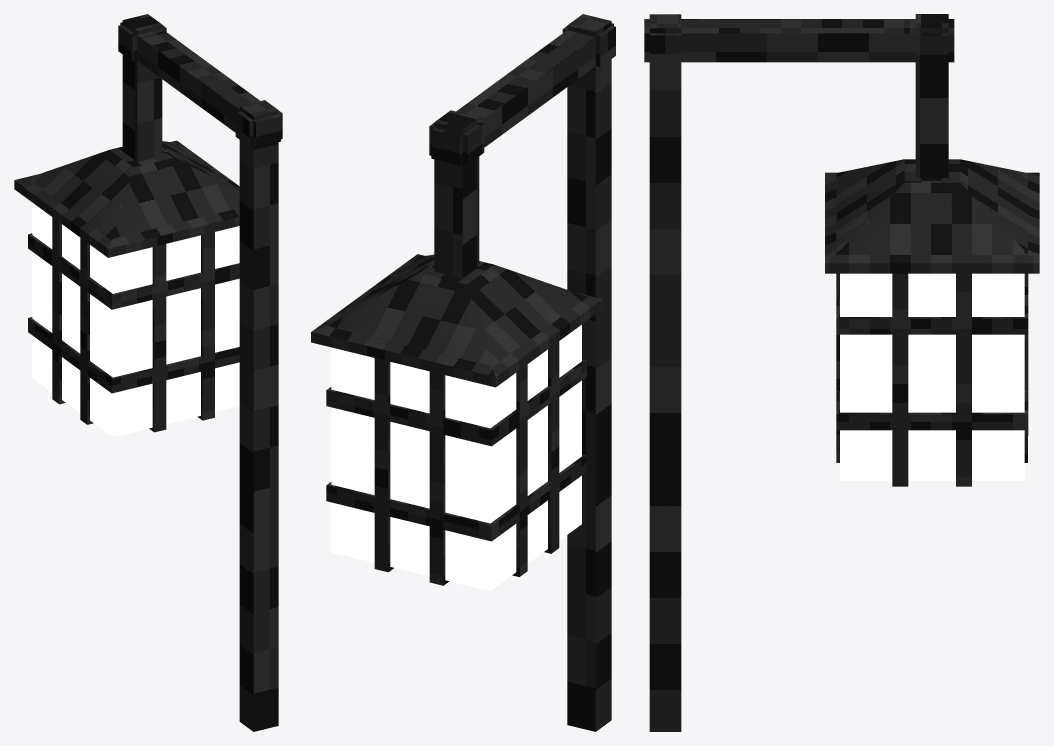
File: outdoor_lamp.fbx
The picture shows the model from 3 angles, left to right: view 1: azimuth 30°, elevation 25°; view 2: azimuth 150°, elevation 25°; view 3: azimuth 270°, elevation 25°; orthographic projection. The views are drawn at different scales.
Visible parts, largest first — view 1: Cube; view 2: Cube; view 3: Cube.
Part boxes in pixels (box(x1,y1,x2,y2)): Cube: box(14, 14, 282, 731); Cube: box(311, 14, 615, 731); Cube: box(644, 14, 1039, 731).
Size of the model in its own units: 58.14 by 210 by 107.
1 material, 1 textured.
